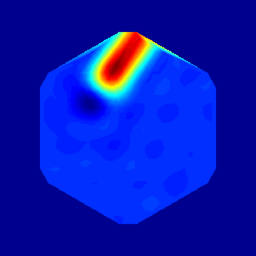ship: (81, 84, 109, 114)
wave: (95, 34, 138, 96)
